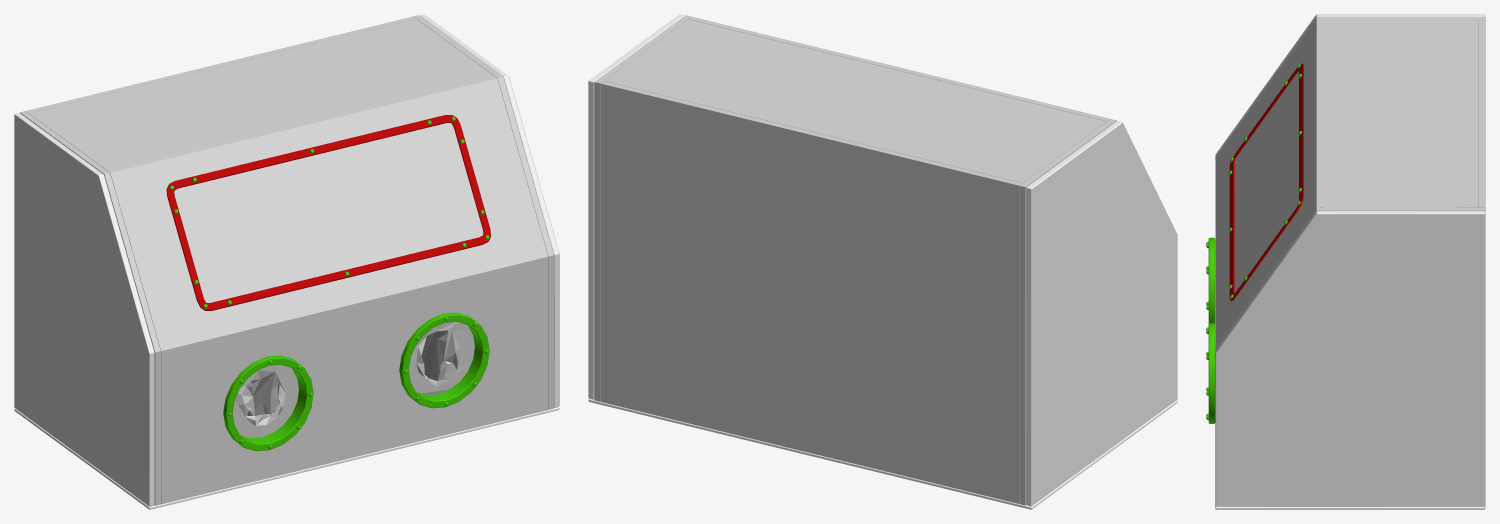
The model's file is GloveBox.fbx.
3 views of the same model, side by side, from view 1: azimuth 30°, elevation 25°; view 2: azimuth 150°, elevation 25°; view 3: azimuth 270°, elevation 25° (orthographic). The views are drawn at different scales.
Parts seen in each view (by area): view 1: GloveBoxGlass, GloveBox, GloveBoxGloves; view 2: GloveBoxGlass, GloveBox; view 3: GloveBox, GloveBoxGlass.
Boxes of the visible parts, x1,y1,x2,y2 form: GloveBoxGlass: [20, 15, 553, 505]; GloveBox: [14, 14, 559, 509]; GloveBoxGloves: [232, 322, 474, 438]; GloveBoxGlass: [594, 15, 1116, 505]; GloveBox: [588, 14, 1177, 509]; GloveBox: [1206, 14, 1485, 509]; GloveBoxGlass: [1215, 16, 1485, 351].
Size of the model in its own units: 87.5 by 51.65 by 60.62.
